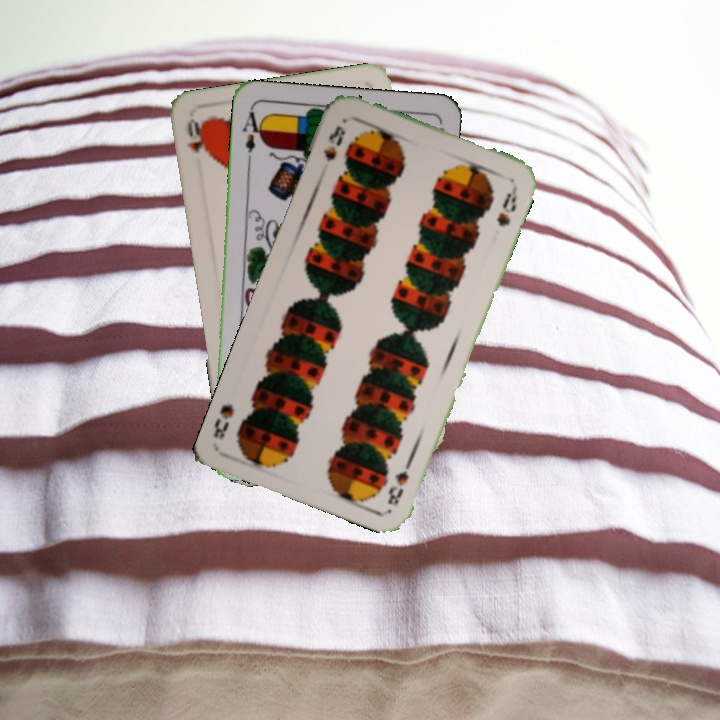EA: (238, 105, 266, 164)
HO: (183, 115, 208, 157)
S8: (383, 453, 416, 509), (319, 121, 348, 164)
